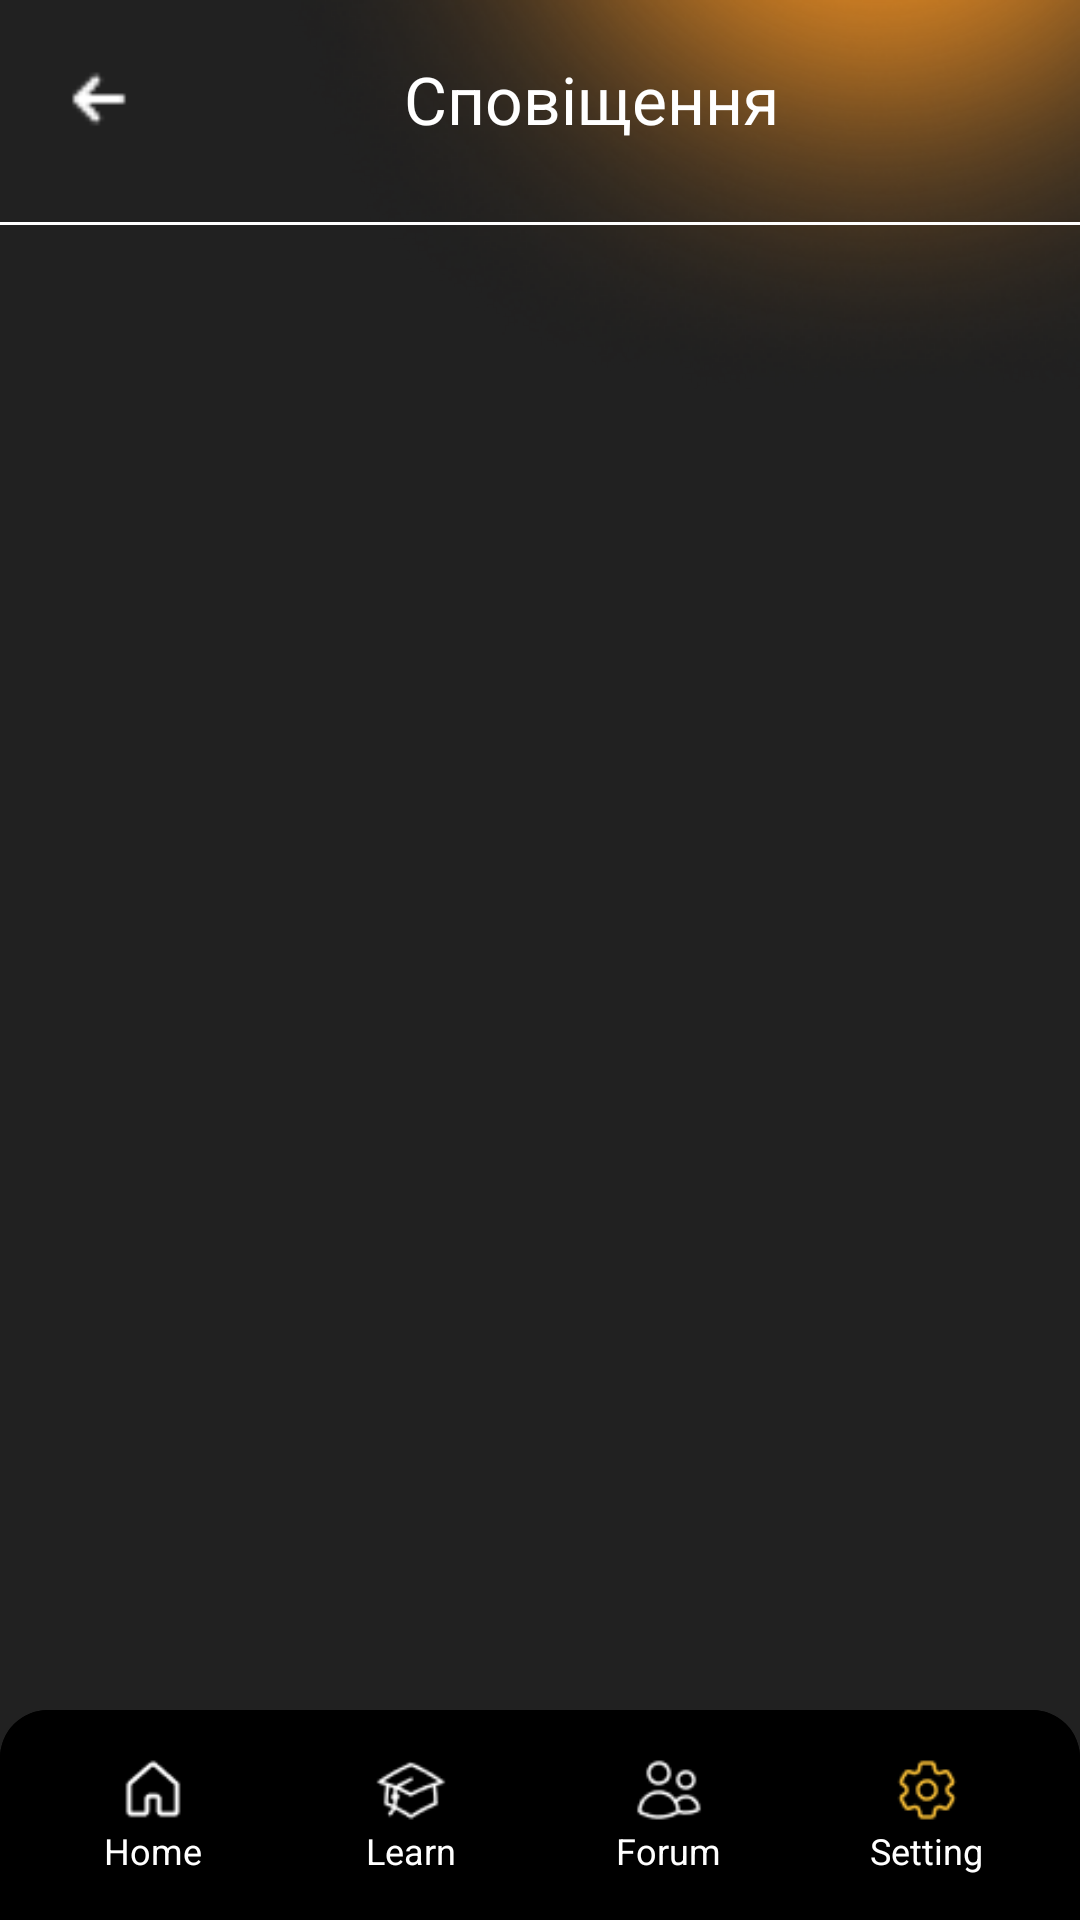

Named icons in this screenshot (1080x1920) and their bounding boxes, (x1, y1, x2, y2):
Back: (72, 73, 126, 125)
